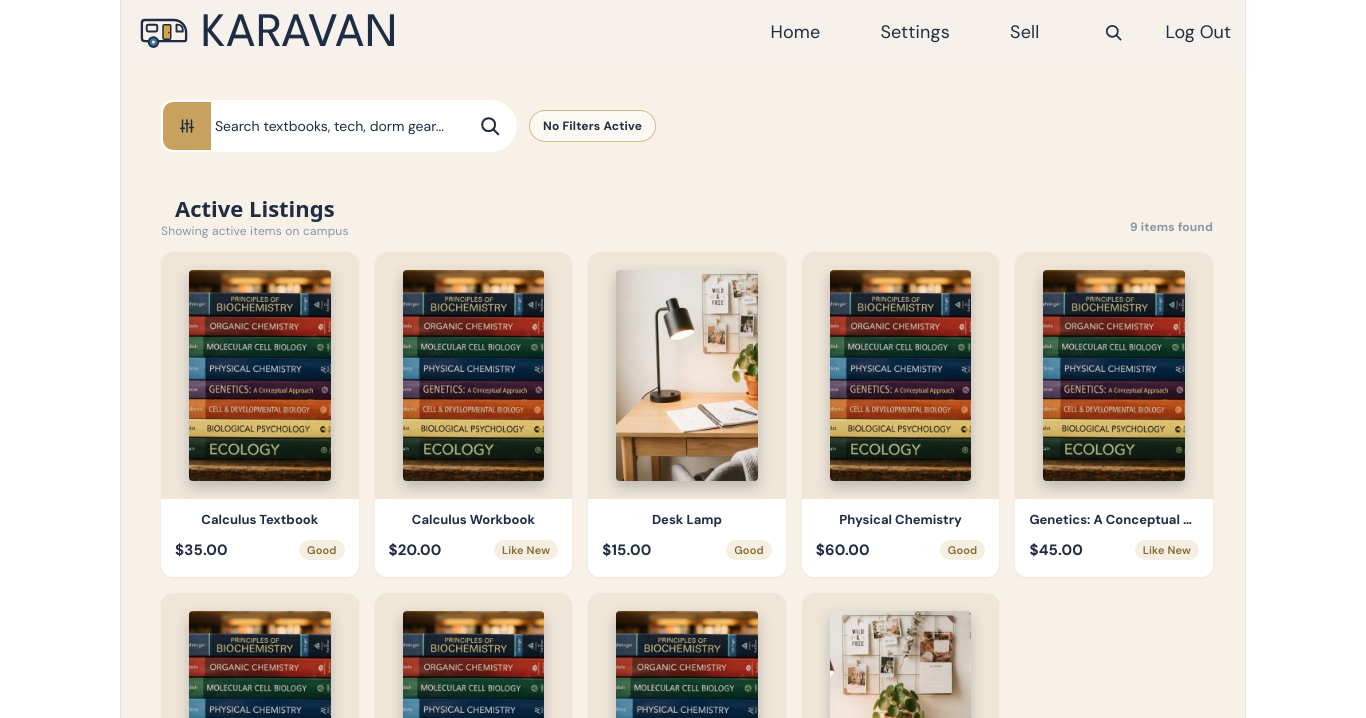
Test: ProductSearch category filtering › does not filter draft selections until Apply Filters is clicked
The image size is (1366, 718).
Click the button named "Open filters": (187, 126) [163,102,211,150]
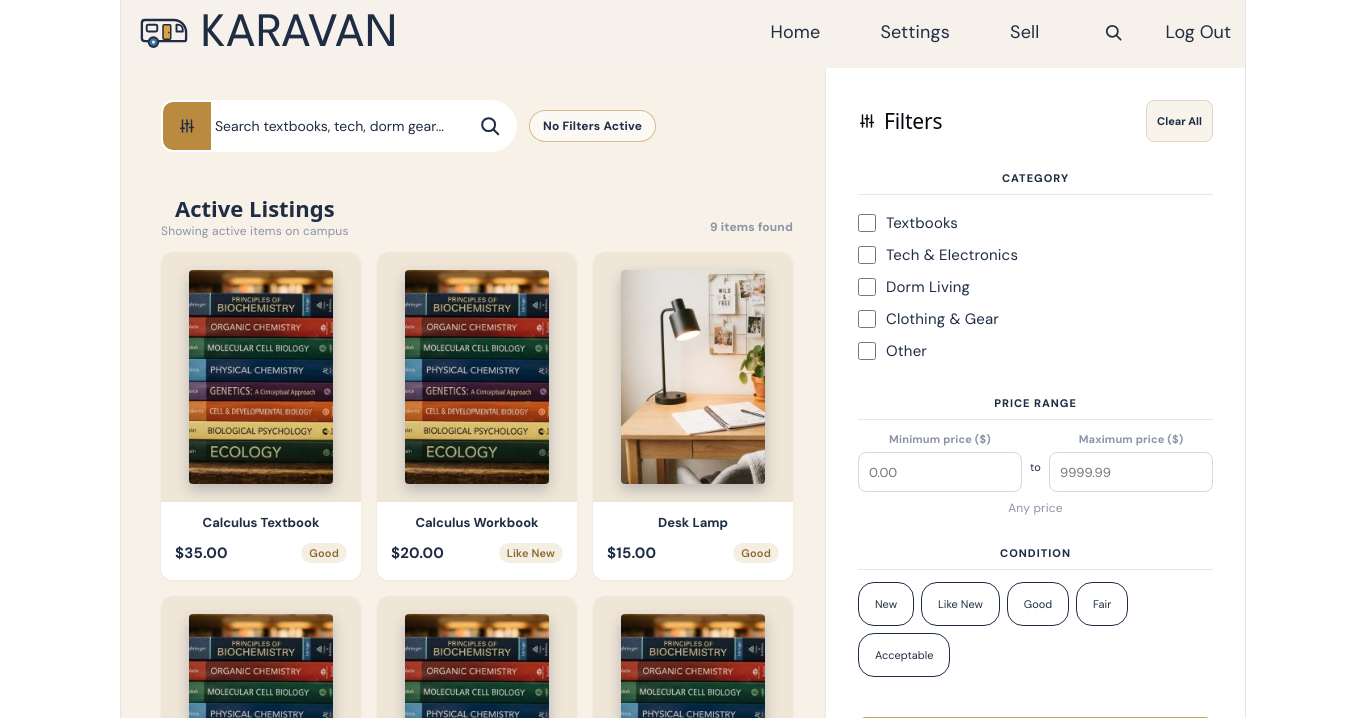
Click the checkbox labelled "Textbooks": (867, 223) [858,214,876,232]
(page scrolled)
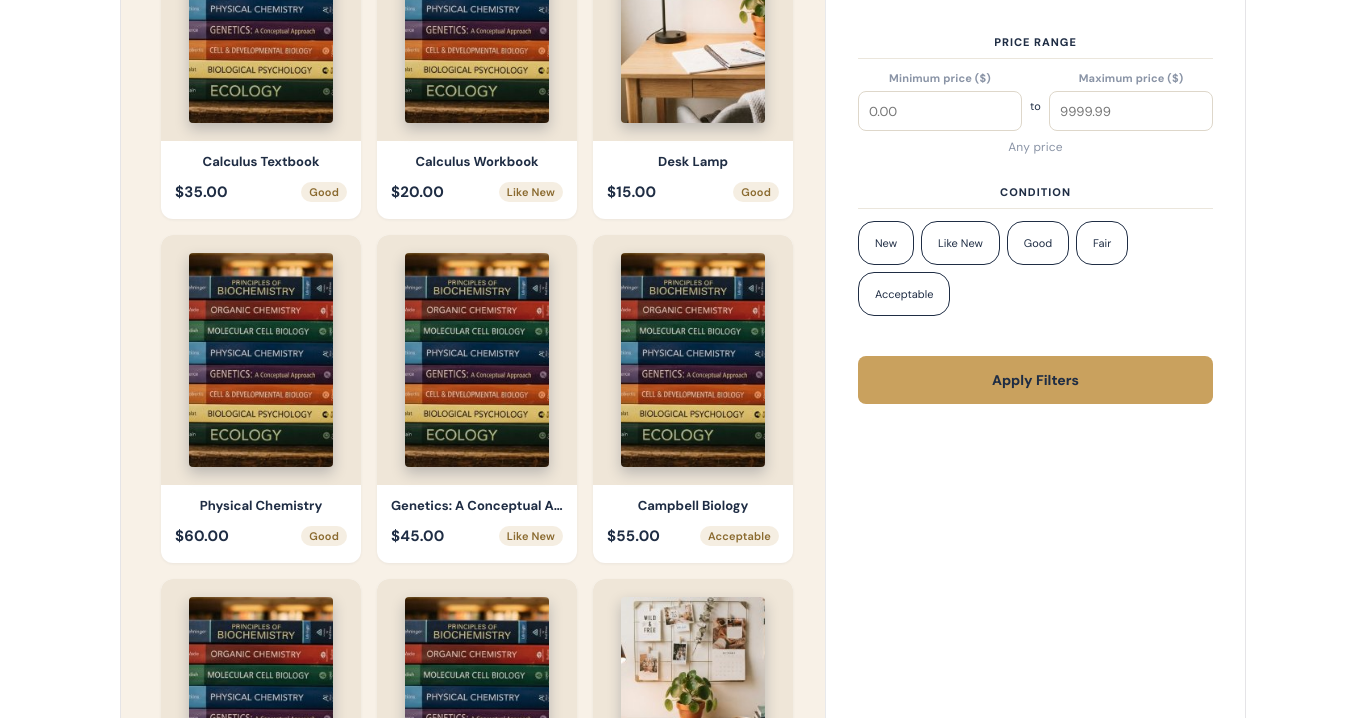
Expected: the link "Desk Lamp" is shown, [658,153,728,170]
Click the button "Apply Filters": (1036, 380) [858,356,1213,404]
Wait 350 ms
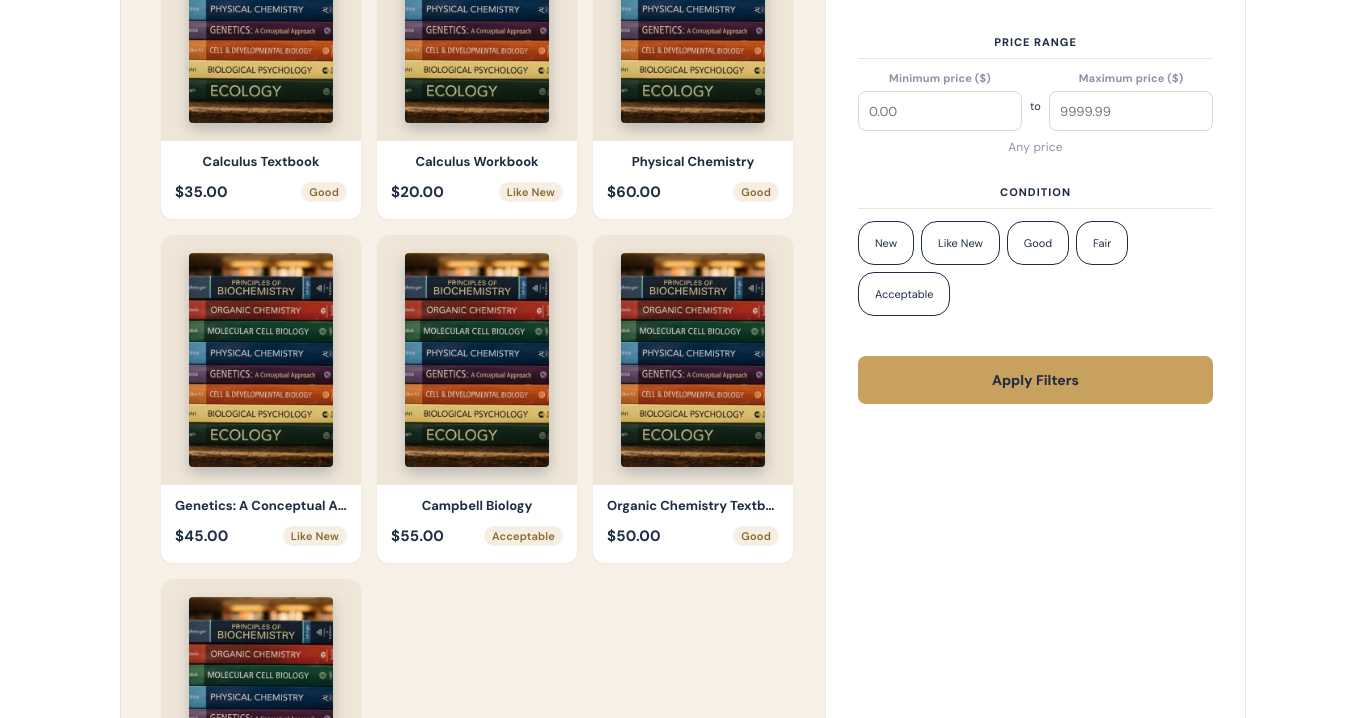
Expected: the link "Calculus Textbook" is shown, [202,153,319,170]
Now the link "Desk Lamp" is gone
